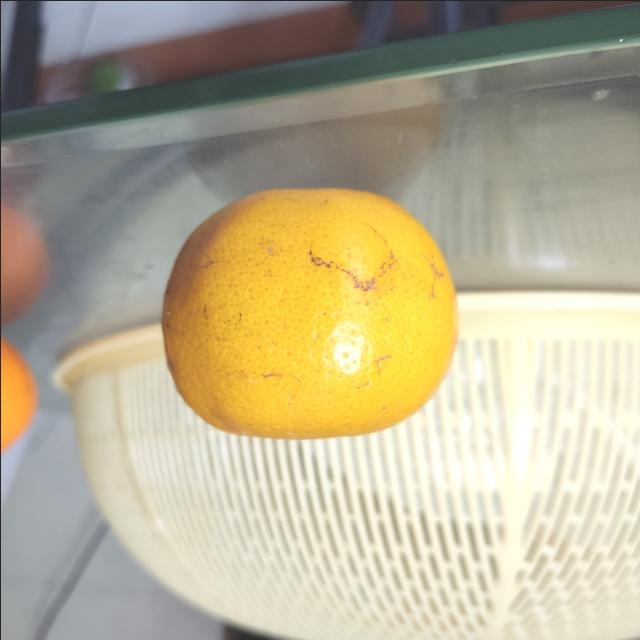agrume: (160, 182, 466, 442)
